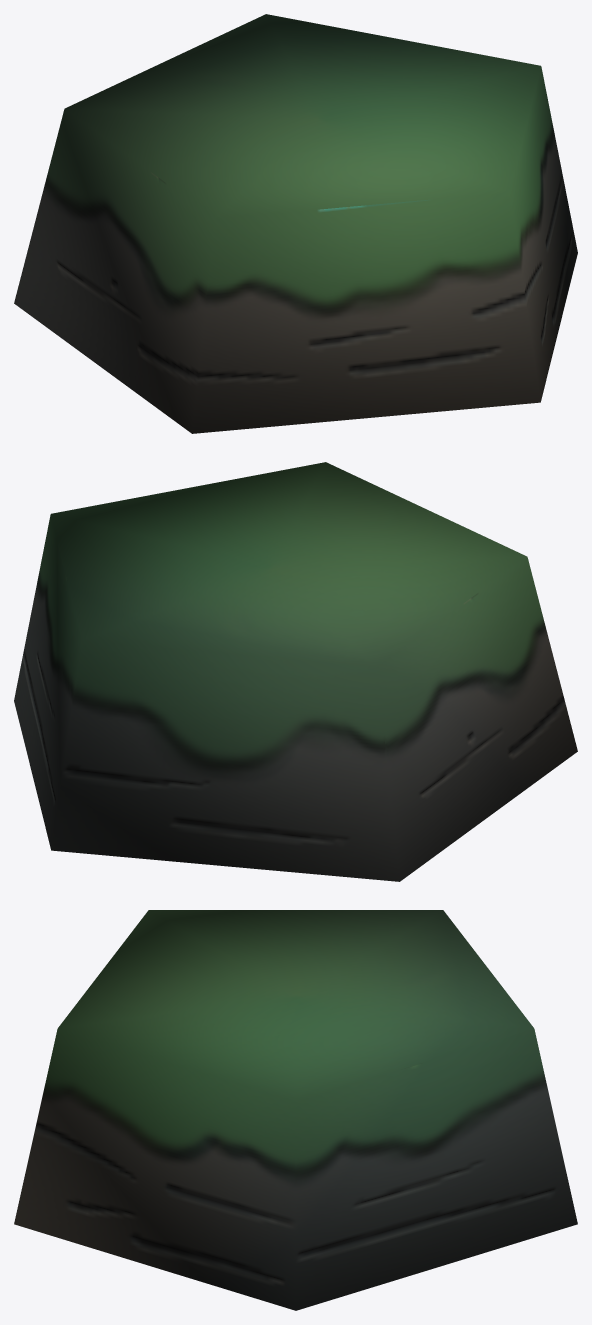
Rendered from penta_rock.fbx.
3 renders of one model, top to bottom at view 1: azimuth 30°, elevation 25°; view 2: azimuth 150°, elevation 25°; view 3: azimuth 270°, elevation 25°, orthographic. The views are drawn at different scales.
Parts seen in each view (by area): view 1: penta_rock; view 2: penta_rock; view 3: penta_rock.
Part boxes in pixels (box(x1,y1,x2,y2)): penta_rock: box(14, 14, 577, 433); penta_rock: box(14, 462, 577, 881); penta_rock: box(14, 910, 577, 1310).
Bounding box in the file's own units: 6.27 × 2.47 × 6.59.
